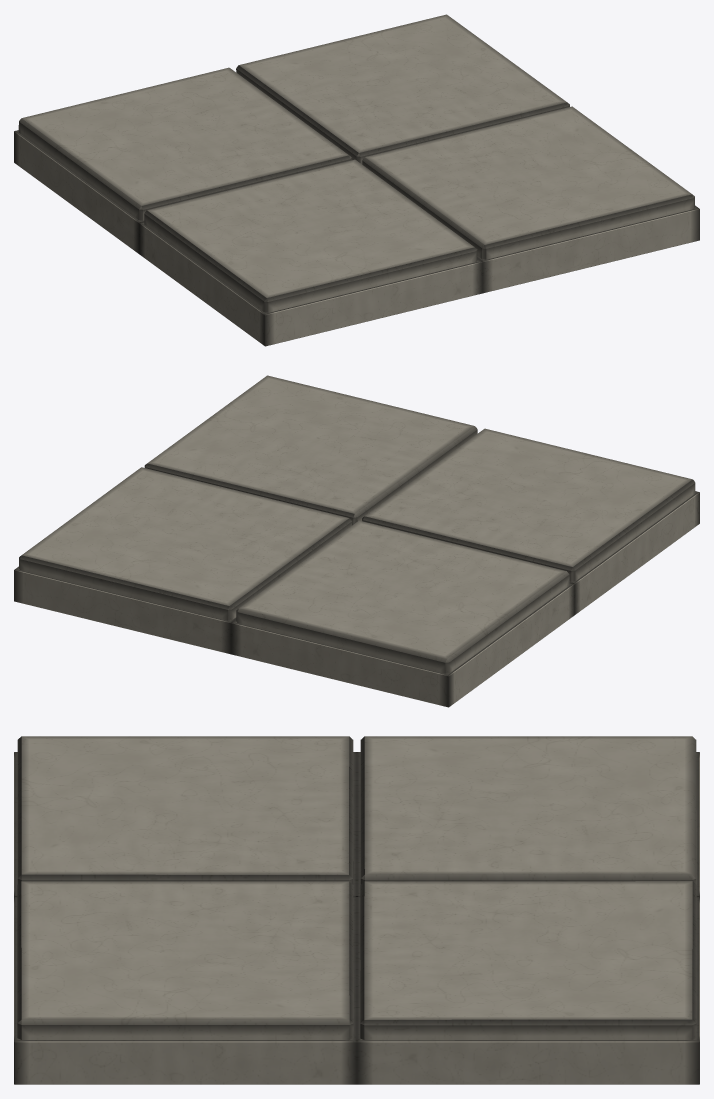
File: floor_marble_a.glb
3 views of the same model, one above another, from view 1: azimuth 30°, elevation 25°; view 2: azimuth 150°, elevation 25°; view 3: azimuth 270°, elevation 25° (orthographic). The views are drawn at different scales.
Visible parts, largest first — view 1: floor_marble_a; view 2: floor_marble_a; view 3: floor_marble_a.
Boxes of the visible parts, <box> form: floor_marble_a: <box>14,14,699,346</box>; floor_marble_a: <box>14,375,699,707</box>; floor_marble_a: <box>14,736,699,1084</box>.
Size of the model in its own units: 1 by 0.1 by 1.
Materials: 1 (1 with a texture image).
